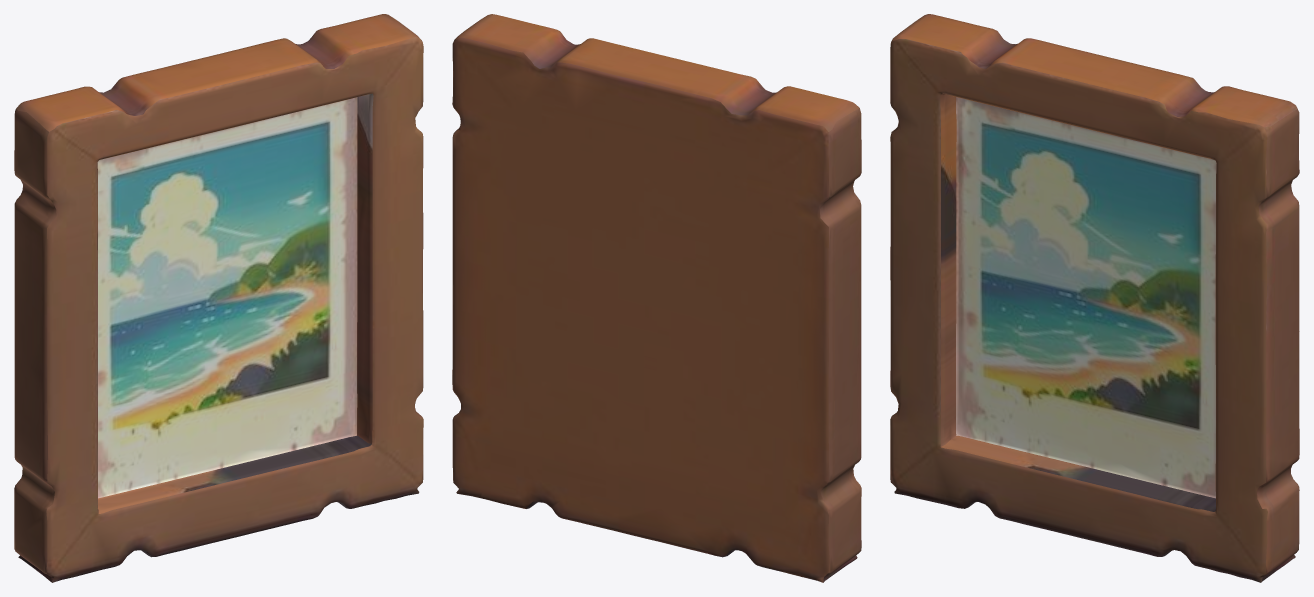
Rendered from photo.glb.
The picture shows the model from 3 angles, left to right: view 1: azimuth 30°, elevation 25°; view 2: azimuth 150°, elevation 25°; view 3: azimuth 330°, elevation 25°; orthographic projection.
Parts seen in each view (by area): view 1: item_photo; view 2: item_photo; view 3: item_photo.
Part boxes in pixels (box(x1,y1,x2,y2)): item_photo: box(14, 14, 423, 582); item_photo: box(452, 14, 861, 582); item_photo: box(890, 14, 1299, 582).
Size of the model in its own units: 0.8654 by 1 by 0.1373.
Materials: 1 (1 with a texture image).
